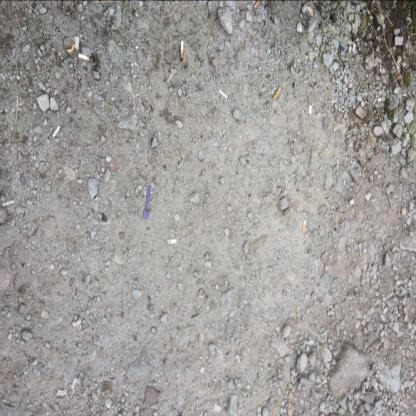Cigarette: (273, 86, 281, 100), (78, 52, 91, 60), (2, 199, 15, 206), (219, 89, 228, 99), (52, 126, 60, 137), (180, 41, 184, 60), (66, 44, 75, 52), (73, 318, 82, 326), (74, 36, 79, 48), (301, 220, 306, 231), (166, 240, 176, 244), (308, 106, 312, 114), (352, 43, 355, 52), (379, 62, 381, 74), (311, 8, 313, 17), (378, 98, 382, 102)
Other litter: (143, 185, 150, 219)
Unlabeled litter: (113, 160, 117, 172)
